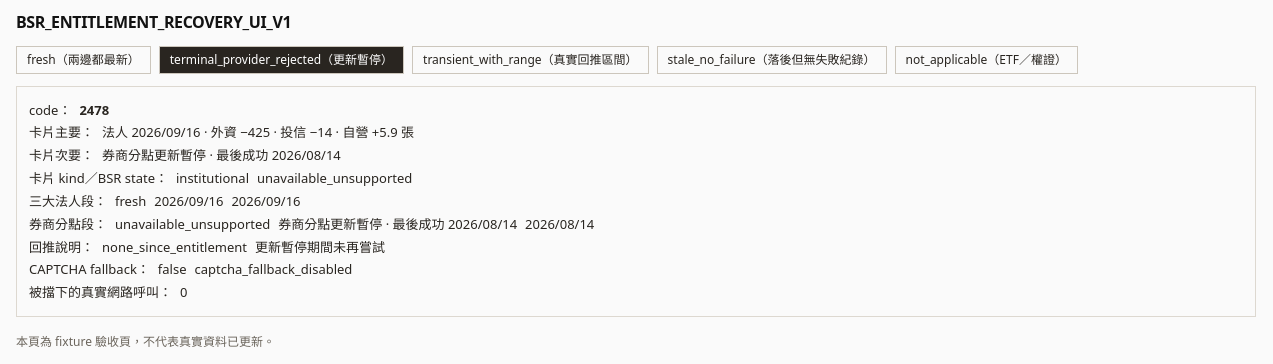
Scenario: BSR provider state harness › fresh 與 stale_no_failure 情境
Click the button "fresh（兩邊都最新）". click: (83, 60)
box: [16,46,151,74]
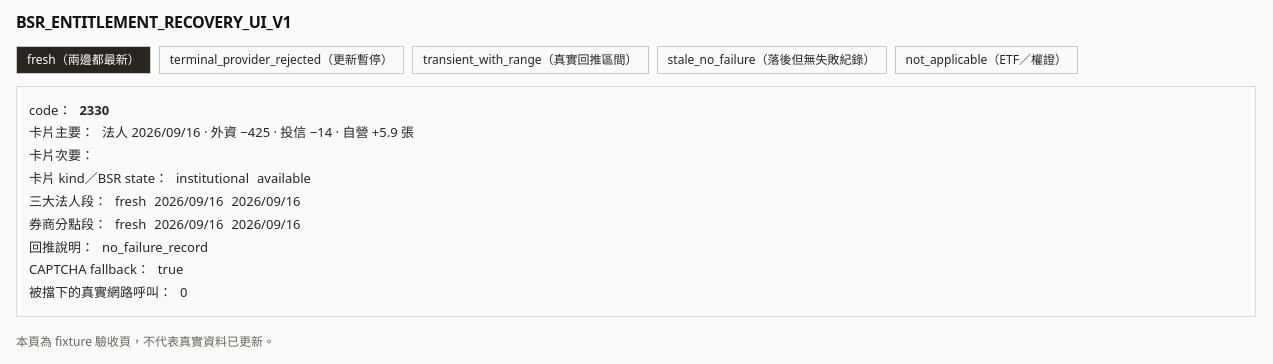
Check: the text "fresh" next to "三大法人段：" is shown, box [115,192,146,210]
Check: the text with test id "retry-note-kind" reads "no_failure_record", box [102,238,208,256]
Click the button "stale_no_failure（落後但無失敗紀錄）". click: (772, 60)
box: [657,46,887,74]
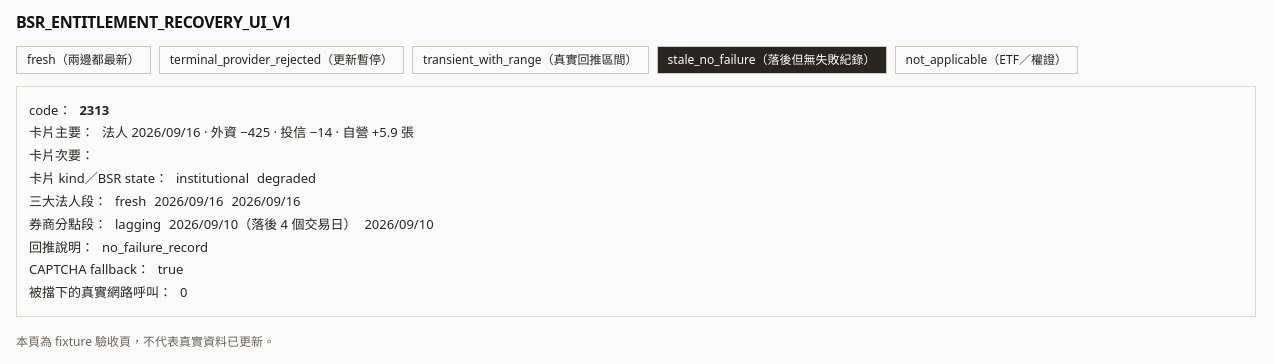
Check: the text with test id "seg-bsr-state" reads "lagging", box [115,215,161,233]
Check: the text with test id "seg-bsr-text" reads "2026/09/10（落後 4 個交易日）", box [169,215,356,233]
